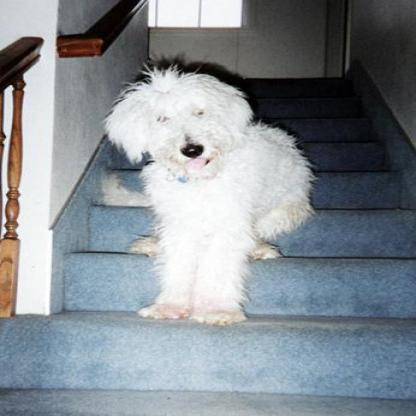komondor: (101, 64, 314, 325)
